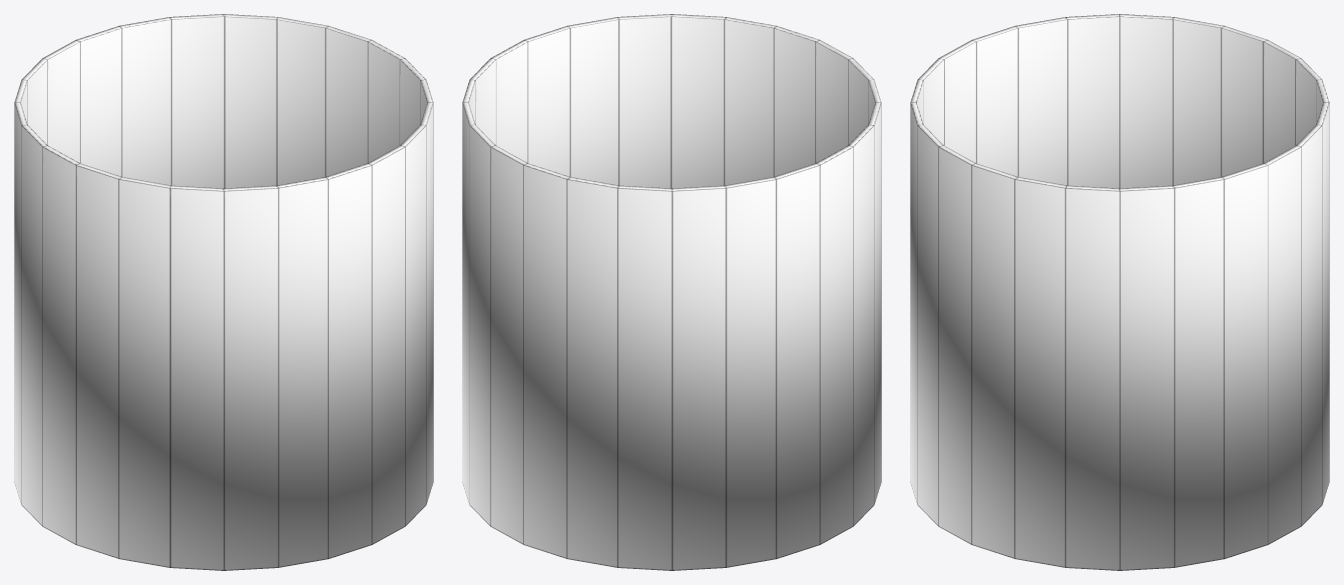
File: open_cylinder_smooth.obj
The picture shows the model from 3 angles, left to right: view 1: azimuth 30°, elevation 25°; view 2: azimuth 150°, elevation 25°; view 3: azimuth 270°, elevation 25°; orthographic projection.
Visible parts, largest first — view 1: Tube2; view 2: Tube2; view 3: Tube2.
Part boxes in pixels (x1=…): Tube2: x1=14, y1=14, x2=433, y2=570; Tube2: x1=462, y1=14, x2=881, y2=570; Tube2: x1=910, y1=14, x2=1329, y2=570.
Size of the model in its own units: 1 by 1 by 1.
1 material, 1 textured.
